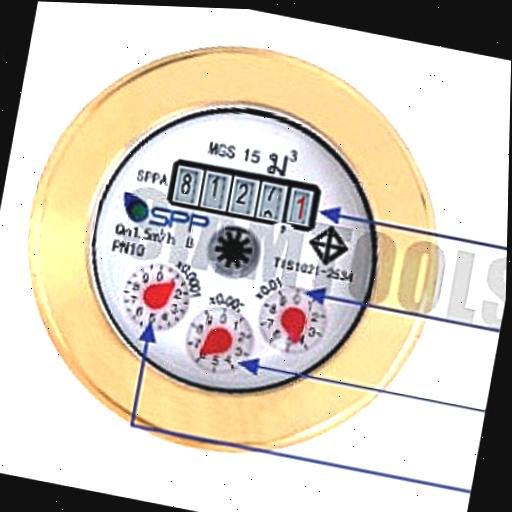1: (204, 174, 224, 210), (290, 192, 311, 225)
2: (231, 179, 254, 214)
7: (260, 186, 281, 221)
8: (175, 170, 197, 204)
border_water_meter_number: (165, 156, 323, 234)
